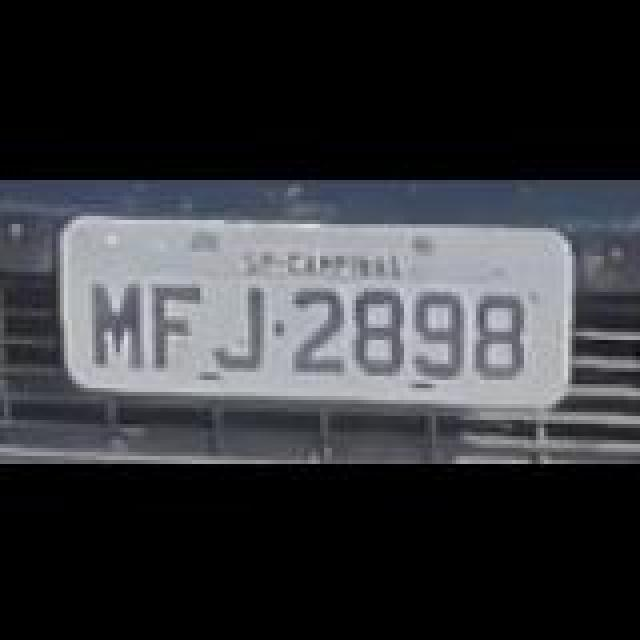2: (294, 284, 346, 372)
8: (472, 288, 528, 376), (352, 286, 408, 370)
9: (414, 290, 466, 374)
F: (150, 280, 202, 368)
J: (214, 282, 266, 366)
M: (92, 280, 148, 368)
